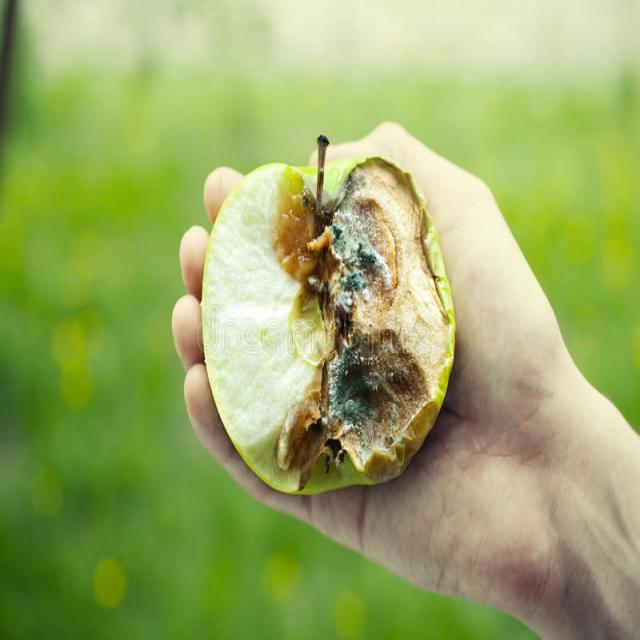Rotten: (192, 162, 465, 527)
